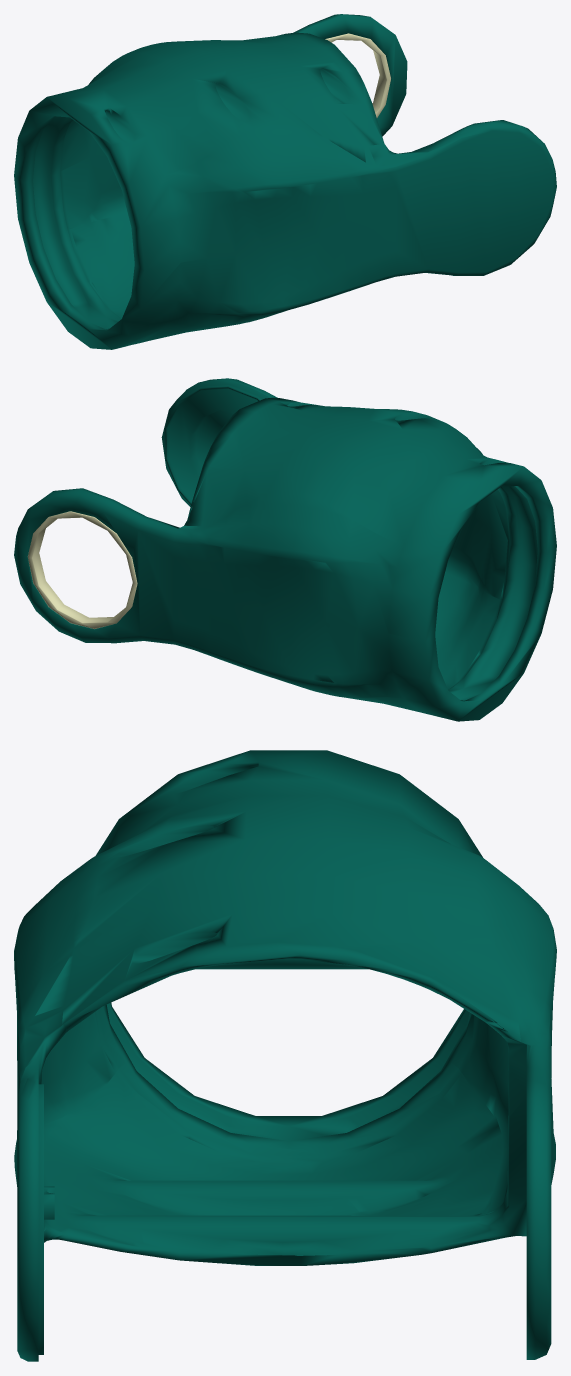
The model's file is 2h09060_arml_t56.obj.
The picture shows the model from 3 angles, top to bottom: view 1: azimuth 30°, elevation 25°; view 2: azimuth 150°, elevation 25°; view 3: azimuth 270°, elevation 25°; orthographic projection. The views are drawn at different scales.
Size of the model in its own units: 0.221 by 0.1304 by 0.153.
